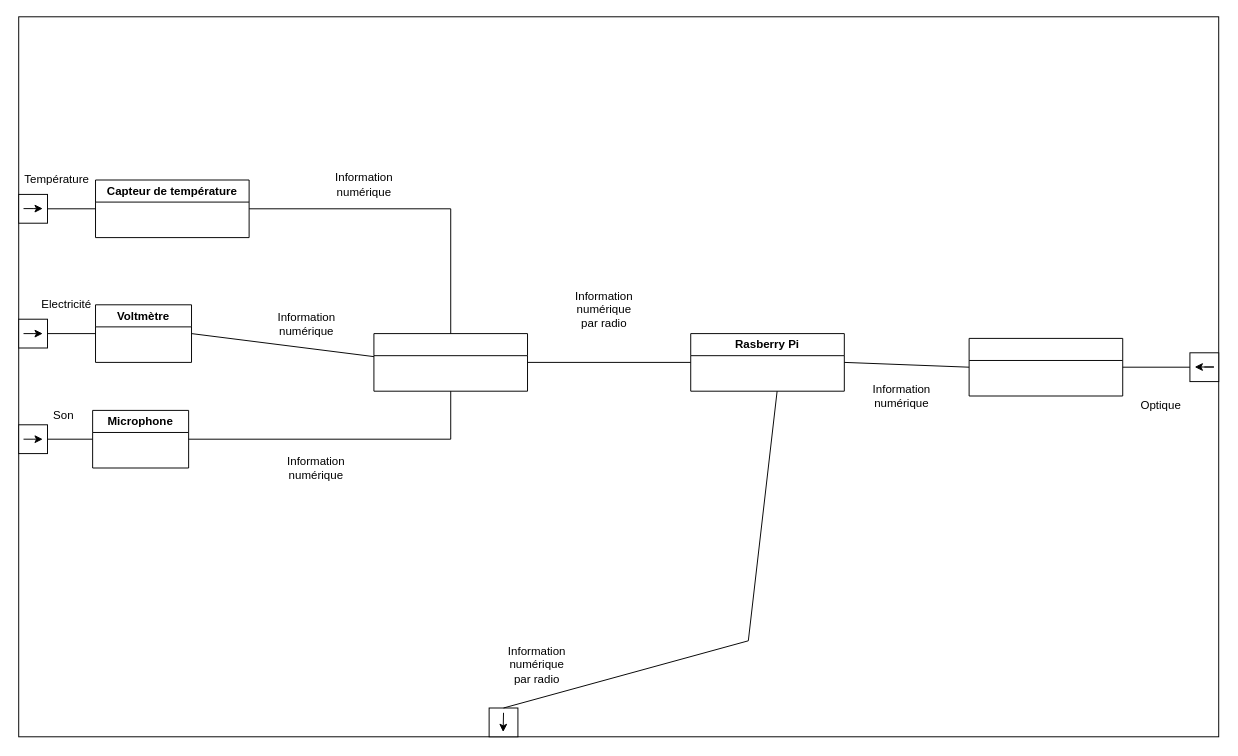
This 1238x756 diagram has some shape labels left out. Each missing label, with the centre of its shape:
"ESP 32" goes at (x=450, y=362).
"Laser" goes at (x=1045, y=366).
